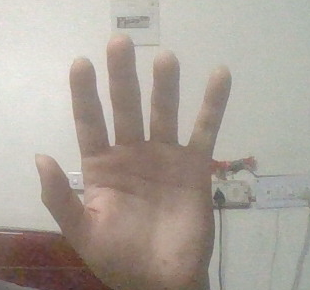move: (23, 32, 238, 278)
